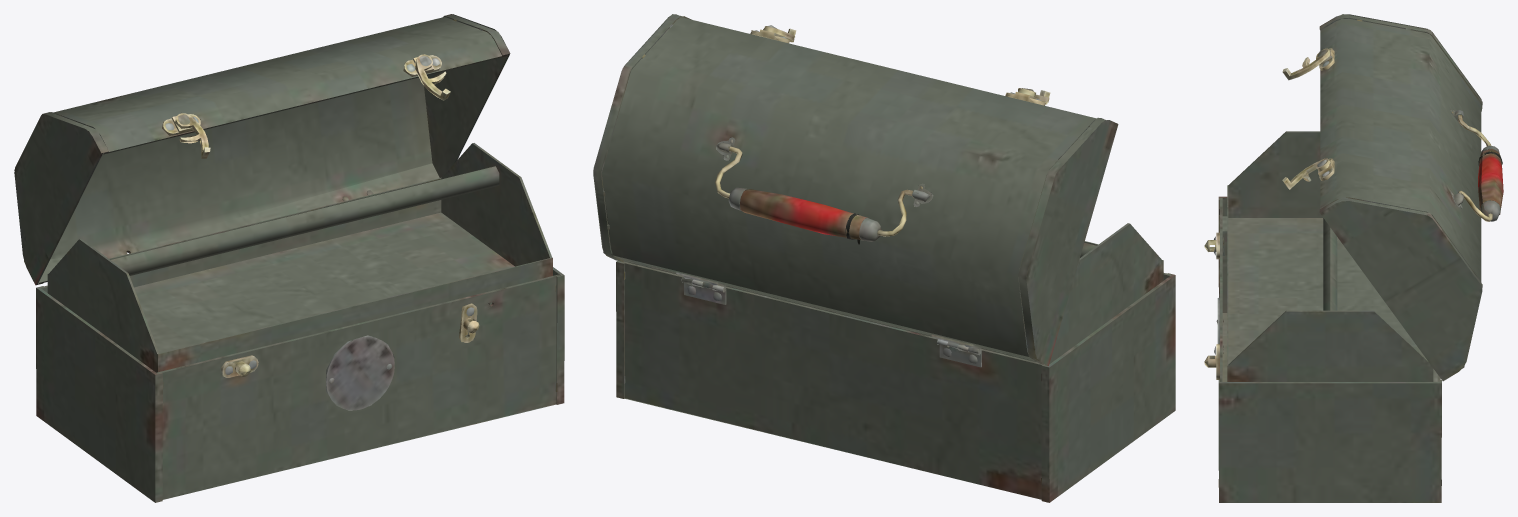
The model's file is caixa_ferramentas.glb.
3 renders of one model, left to right at view 1: azimuth 30°, elevation 25°; view 2: azimuth 150°, elevation 25°; view 3: azimuth 270°, elevation 25°, orthographic. The views are drawn at different scales.
Parts seen in each view (by area): view 1: Malha; view 2: Malha; view 3: Malha.
Boxes of the visible parts, x1=… form: Malha: x1=14, y1=14, x2=564, y2=502; Malha: x1=593, y1=14, x2=1175, y2=502; Malha: x1=1204, y1=14, x2=1503, y2=502.
Size of the model in its own units: 0.36 by 0.2745 by 0.2439.
1 material, 1 textured.
